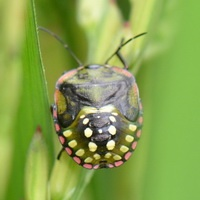insect: (52, 33, 145, 168)
